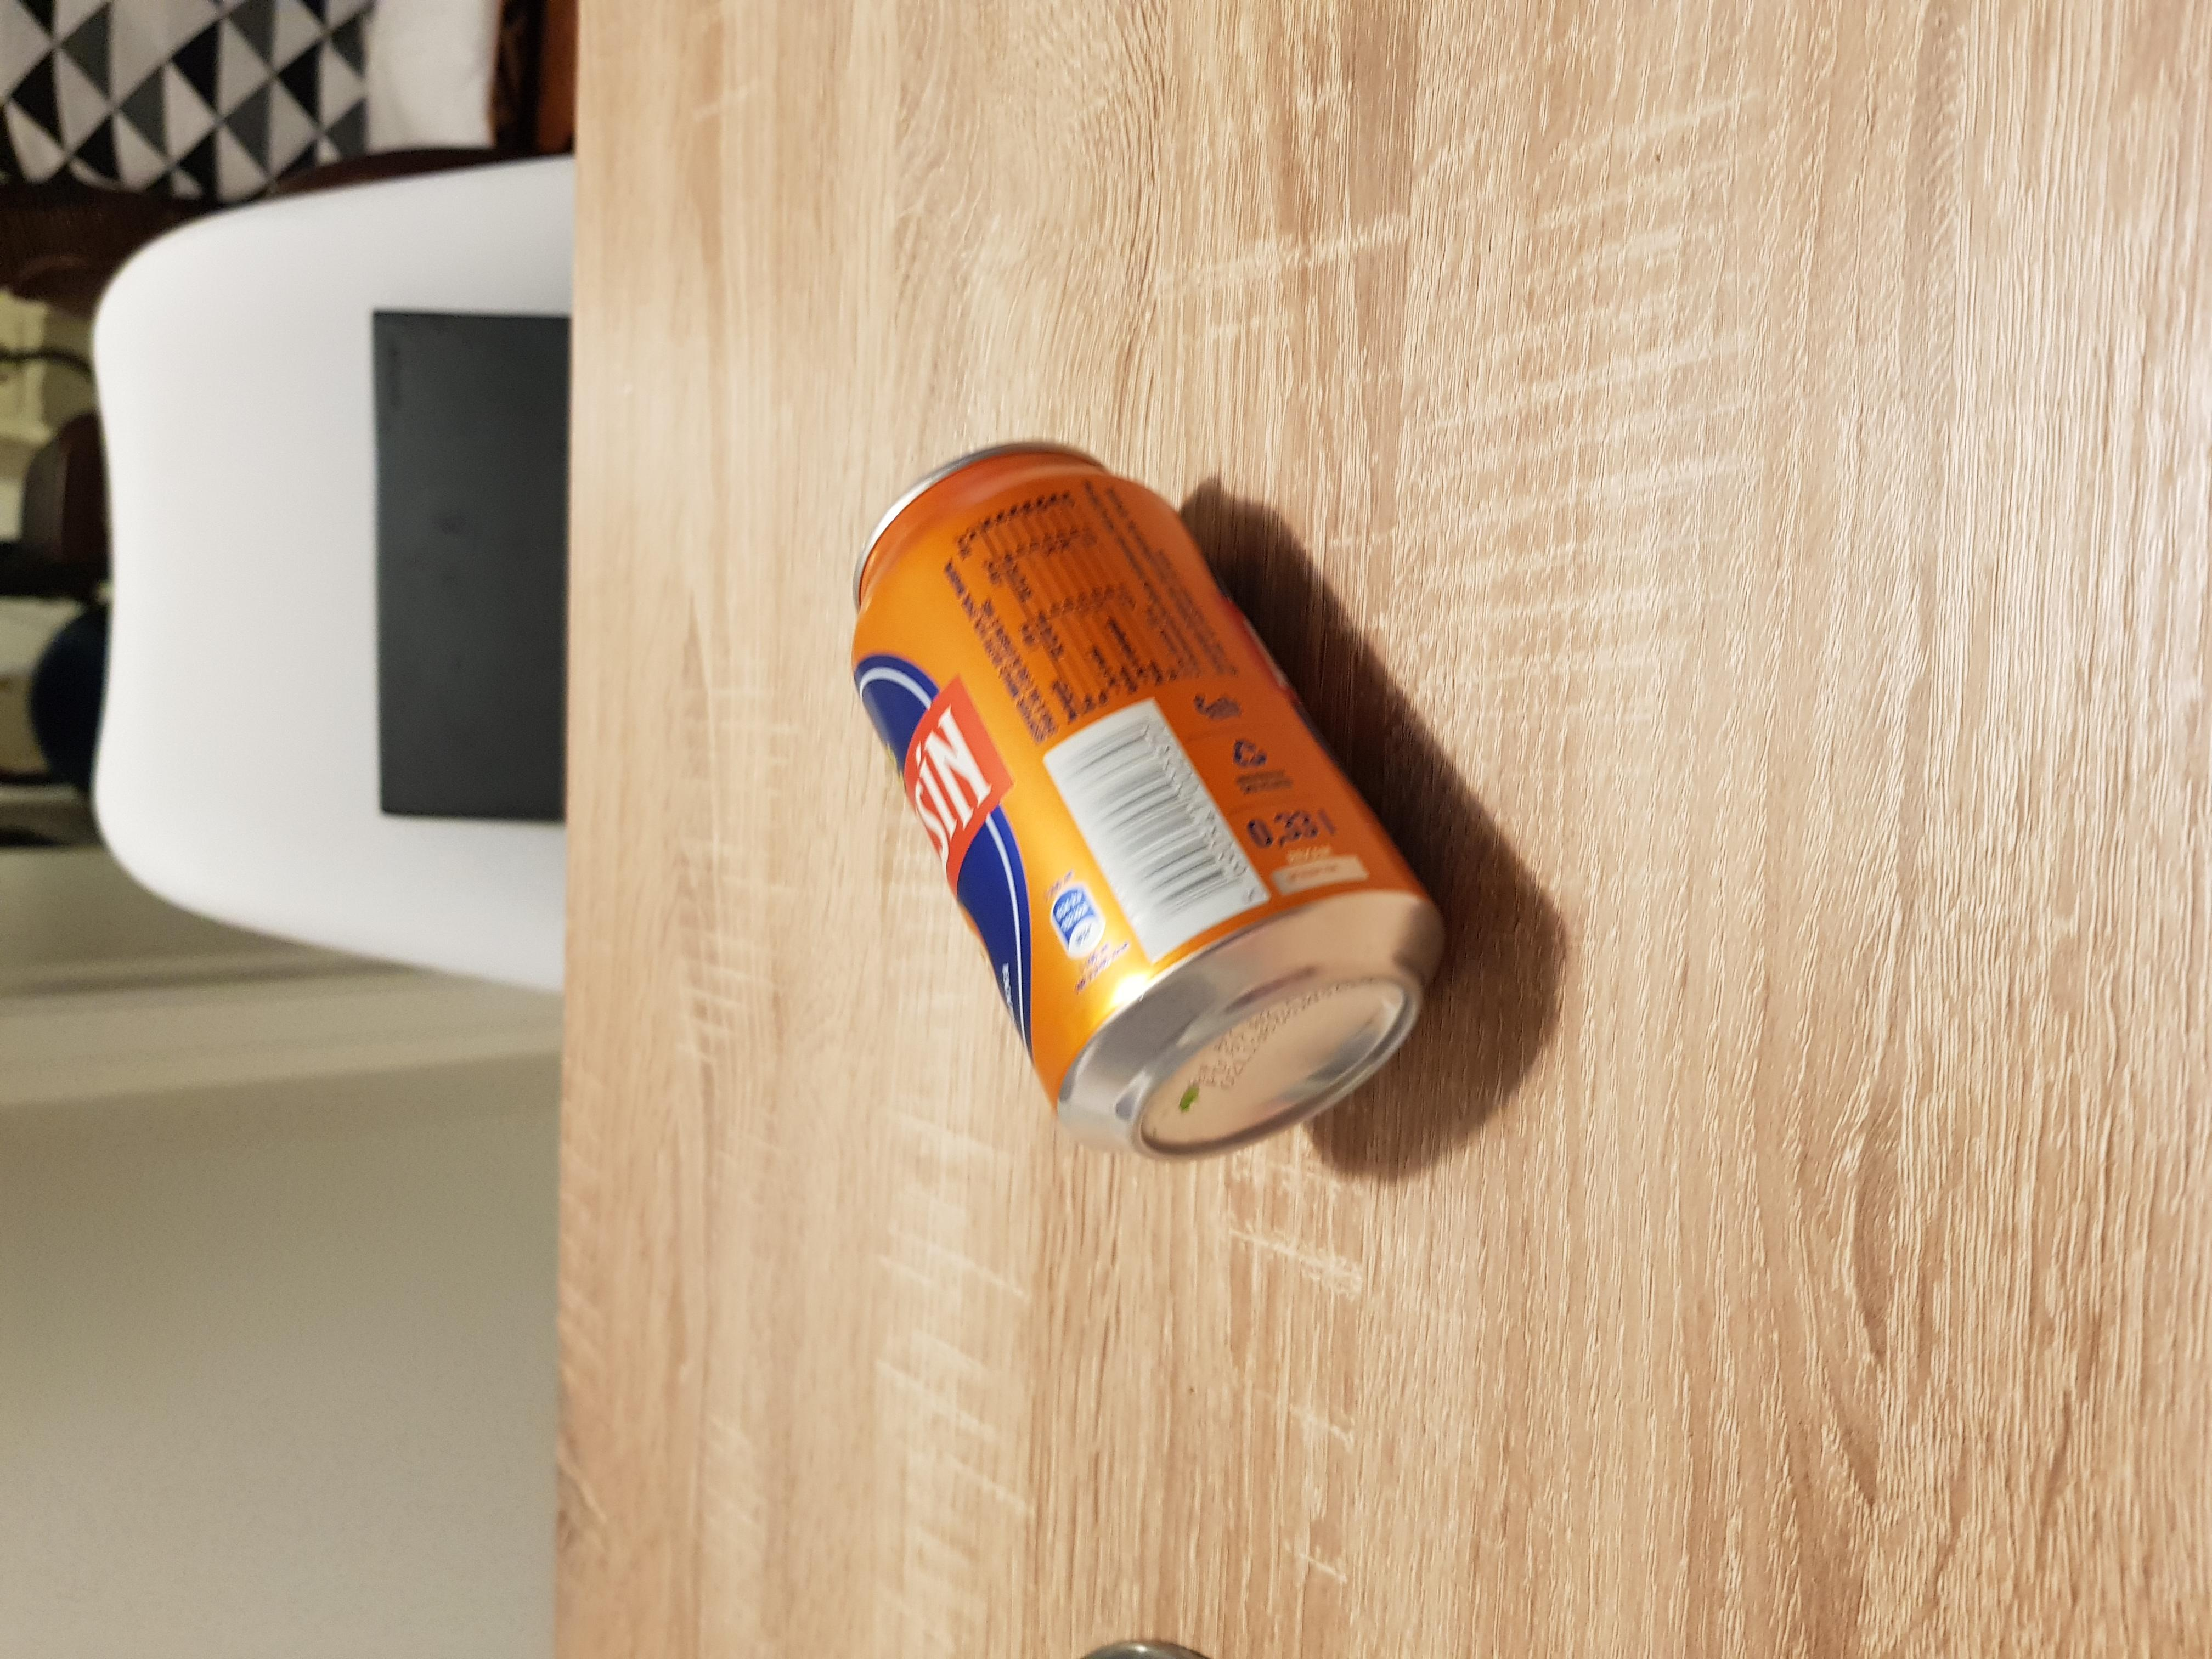Can: (841, 439, 1430, 1162)
